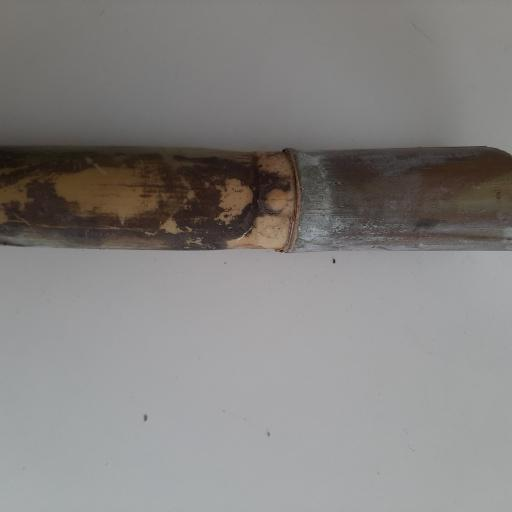Bud: (260, 184, 291, 214)
